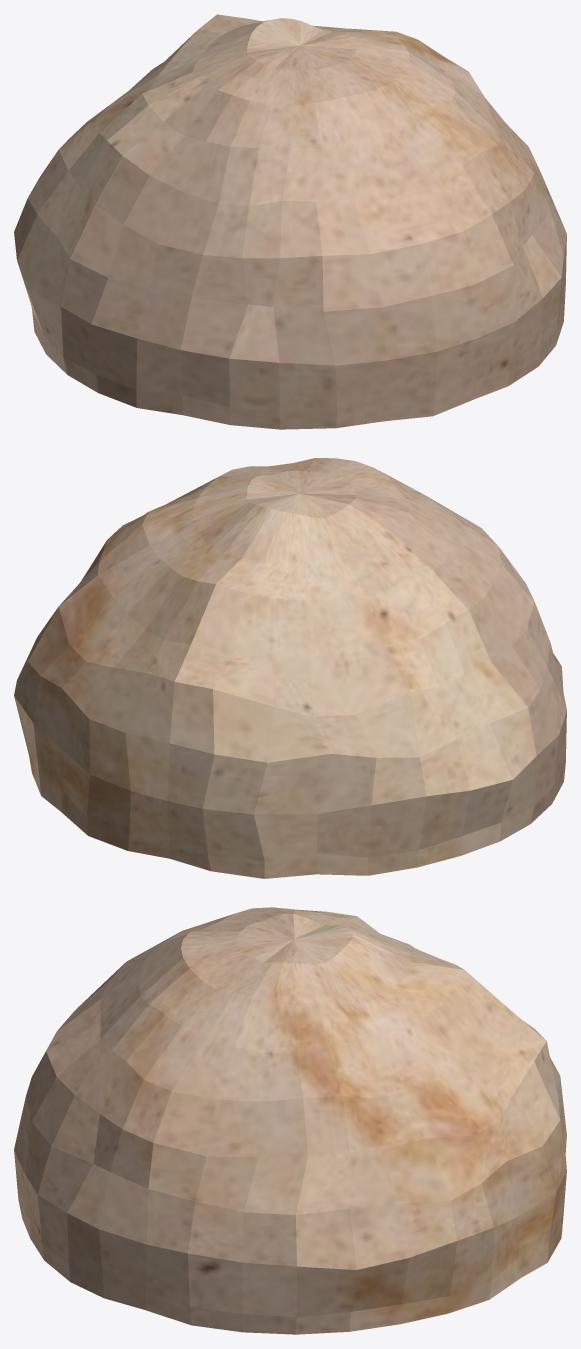
File: deegbal_fase_1.glb
3 renders of one model, top to bottom at view 1: azimuth 30°, elevation 25°; view 2: azimuth 150°, elevation 25°; view 3: azimuth 270°, elevation 25°, orthographic. The views are drawn at different scales.
Parts seen in each view (by area): view 1: Sphere; view 2: Sphere; view 3: Sphere.
Boxes of the visible parts, bbox=[...] form: Sphere: bbox=[14, 14, 566, 429]; Sphere: bbox=[14, 458, 566, 878]; Sphere: bbox=[14, 907, 566, 1334].
Bounding box in the file's own units: 2.09 × 1.14 × 2.01.
1 material, 1 textured.
